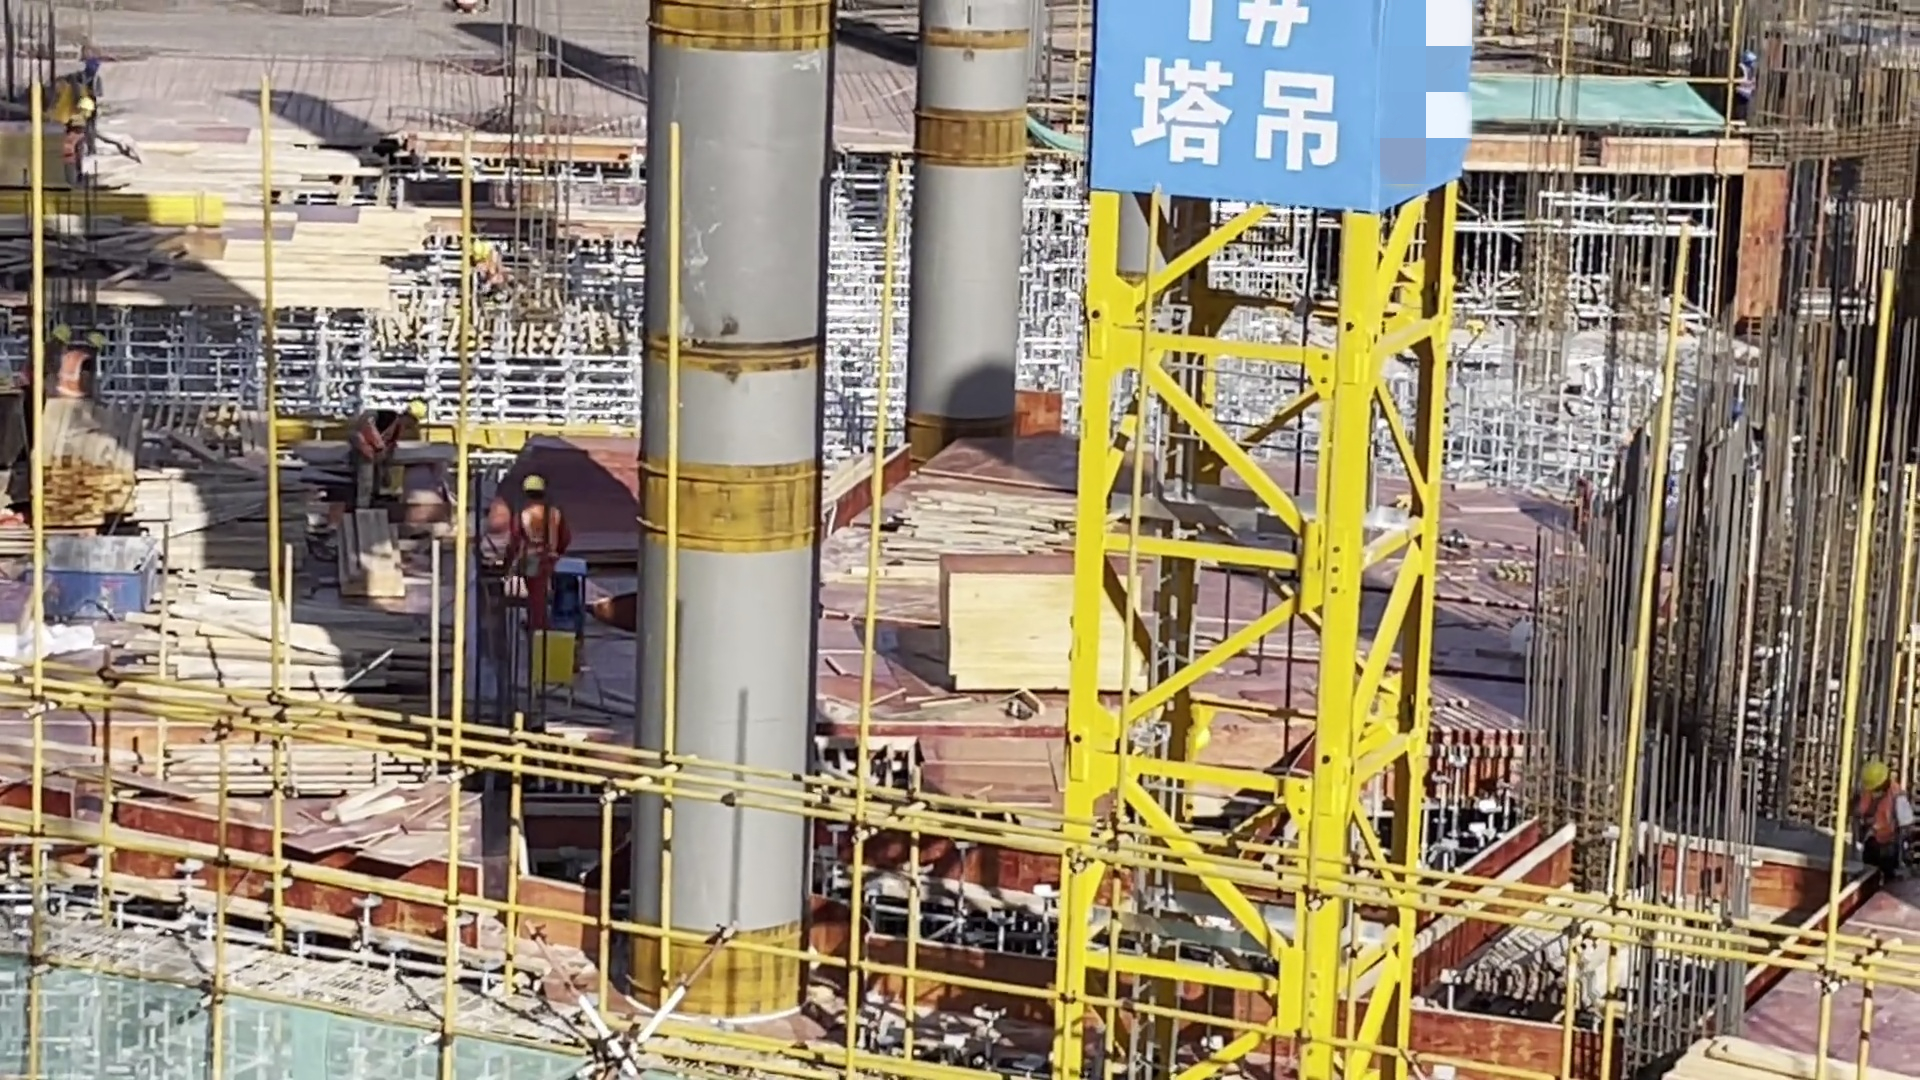helmet: (1861, 754, 1894, 803), (404, 400, 430, 424), (522, 475, 551, 493), (1740, 48, 1763, 71), (77, 97, 96, 116), (90, 334, 108, 352)
person: (347, 387, 433, 502), (1858, 748, 1920, 903), (22, 318, 72, 486), (522, 468, 572, 629), (55, 333, 108, 423), (59, 98, 108, 188), (477, 494, 519, 594), (1727, 43, 1768, 143), (468, 234, 509, 309)
vest: (1859, 787, 1910, 858), (357, 408, 397, 475), (518, 509, 562, 562), (60, 346, 95, 407), (476, 538, 516, 587), (61, 130, 86, 169)
